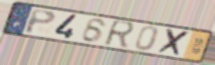0: (133, 25, 160, 53)
4: (53, 13, 80, 41)
6: (80, 18, 108, 44)
P: (23, 7, 57, 35)
R: (102, 19, 137, 51)
X: (156, 27, 192, 58)
